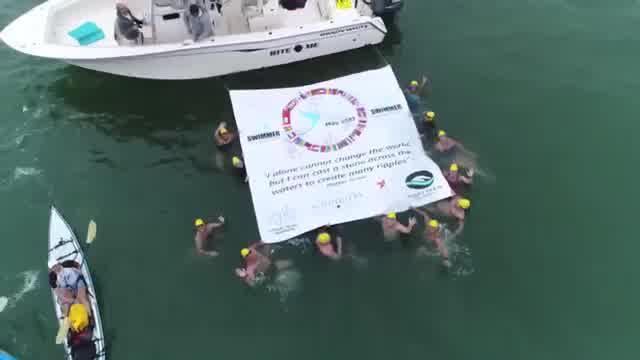swimmer: (184, 216, 230, 258), (228, 241, 272, 284), (416, 219, 452, 266), (369, 212, 414, 240), (311, 232, 350, 264), (422, 130, 464, 158), (441, 162, 477, 190), (431, 201, 472, 224), (399, 79, 428, 109), (210, 121, 234, 152), (413, 109, 440, 129)
